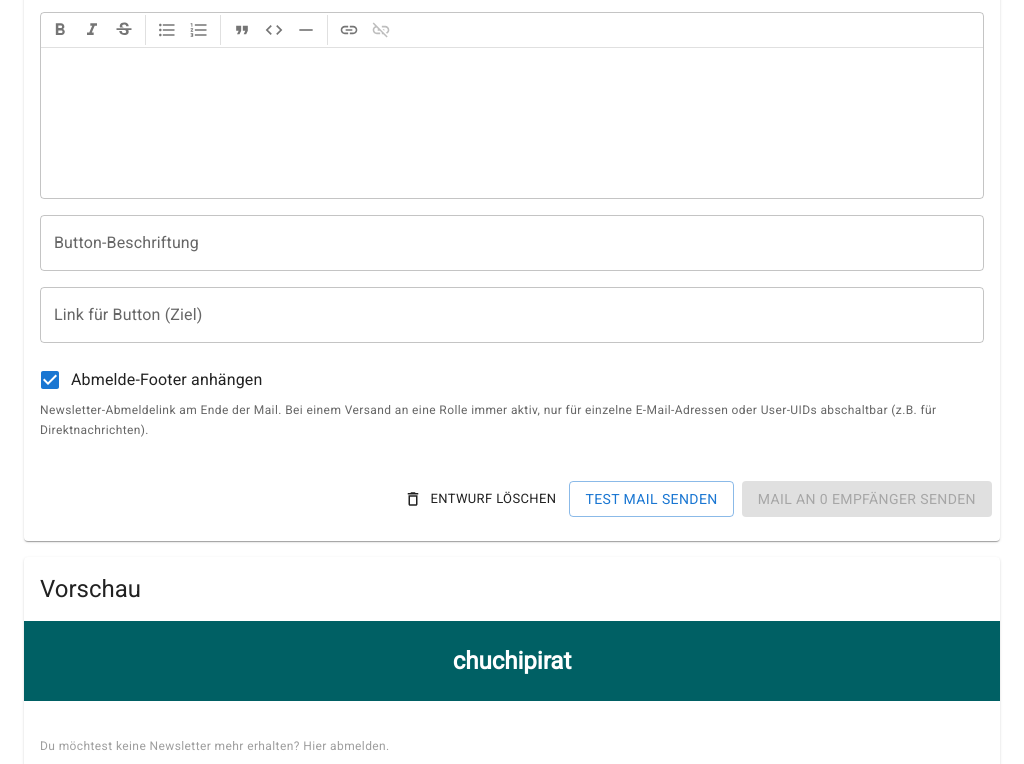
Test: MailConsolePage — Abmelde-Footer und Titel › Ausschalten zeigt den Warnhinweis und entfernt den Footer aus der Vorschau
(page scrolled)
Check: the text "Du möchtest keine Newsletter mehr erhalten? Hier abmelden." is shown, box [40,739,390,753]
Click the checkbox labelled "Abmelde-Footer anhängen".
click(150, 380)  # box [38,368,262,392]
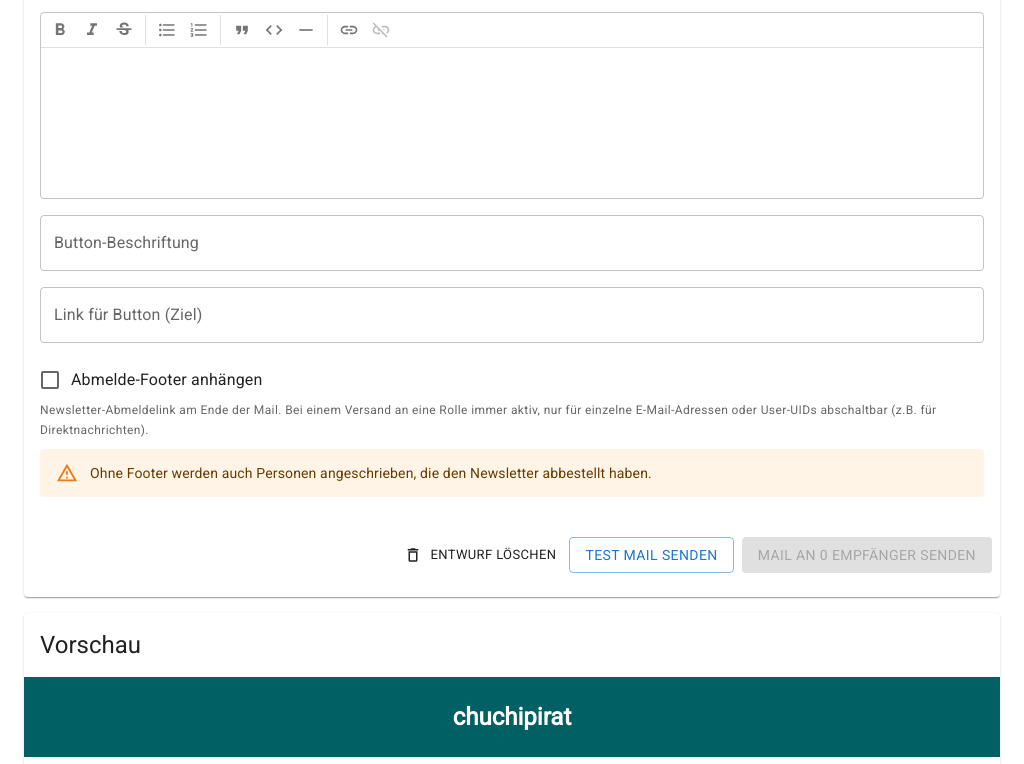
Check: the checkbox labelled "Abmelde-Footer anhängen" is not checked, box [38,368,262,392]
Check: the text "Du möchtest keine Newsletter mehr erhalten? Hier abmelden." is gone
Check: the text "Ohne Footer werden auch Personen angeschrieben" is shown, box [90,465,652,481]
